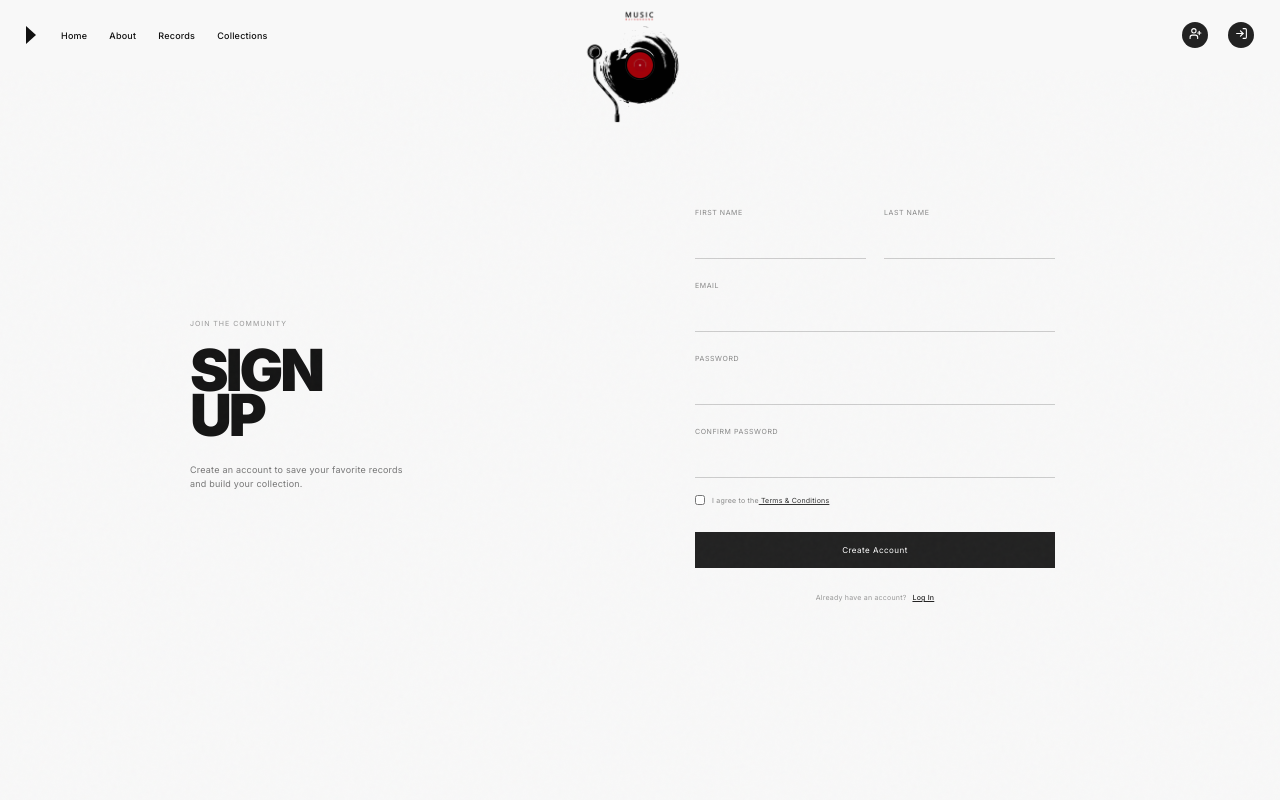
Test: Navigation test › should navigate to the records page correctly
Click the link "Records".
click(177, 35)  # box [158,30,195,40]
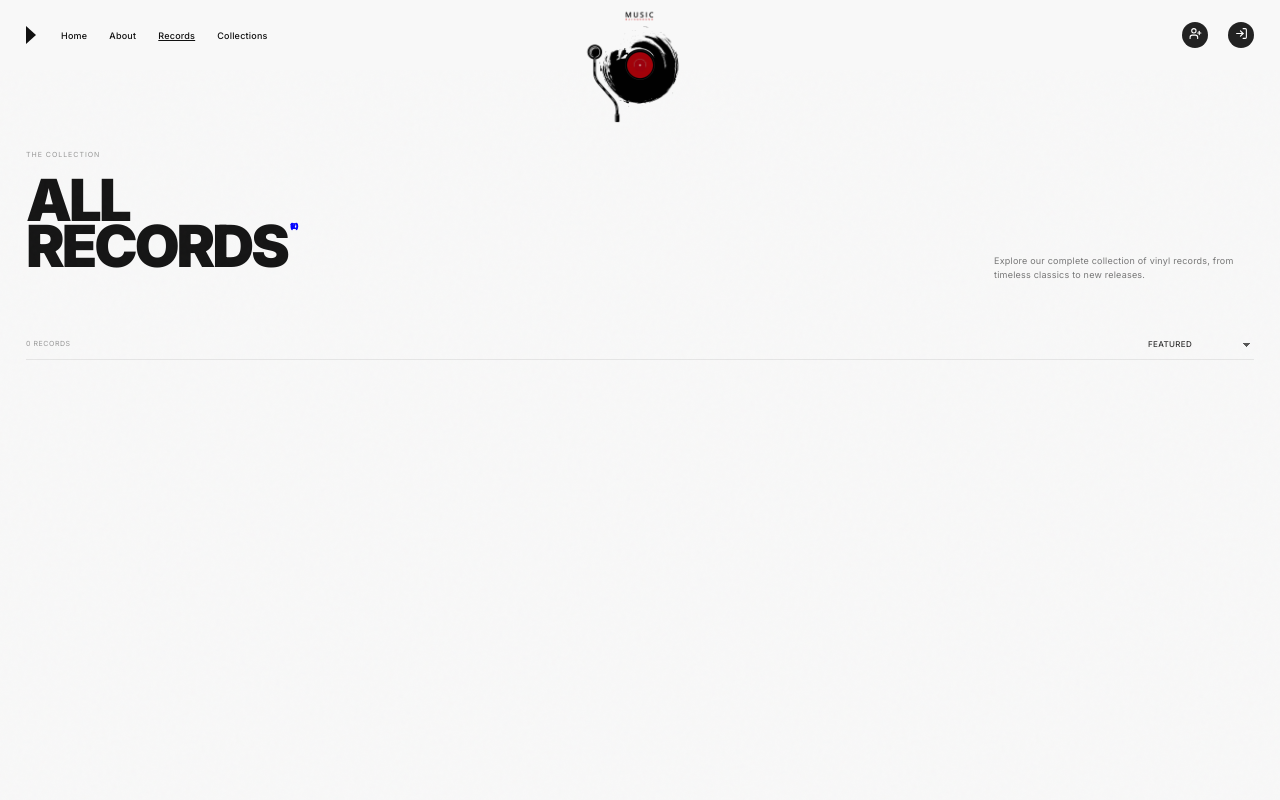
expect the heading "ALLRECORDS(120)" is shown: met, box [26,177,296,270]
